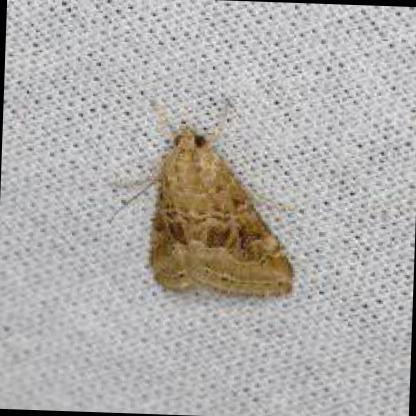Hellula undalis: (103, 84, 297, 297)
